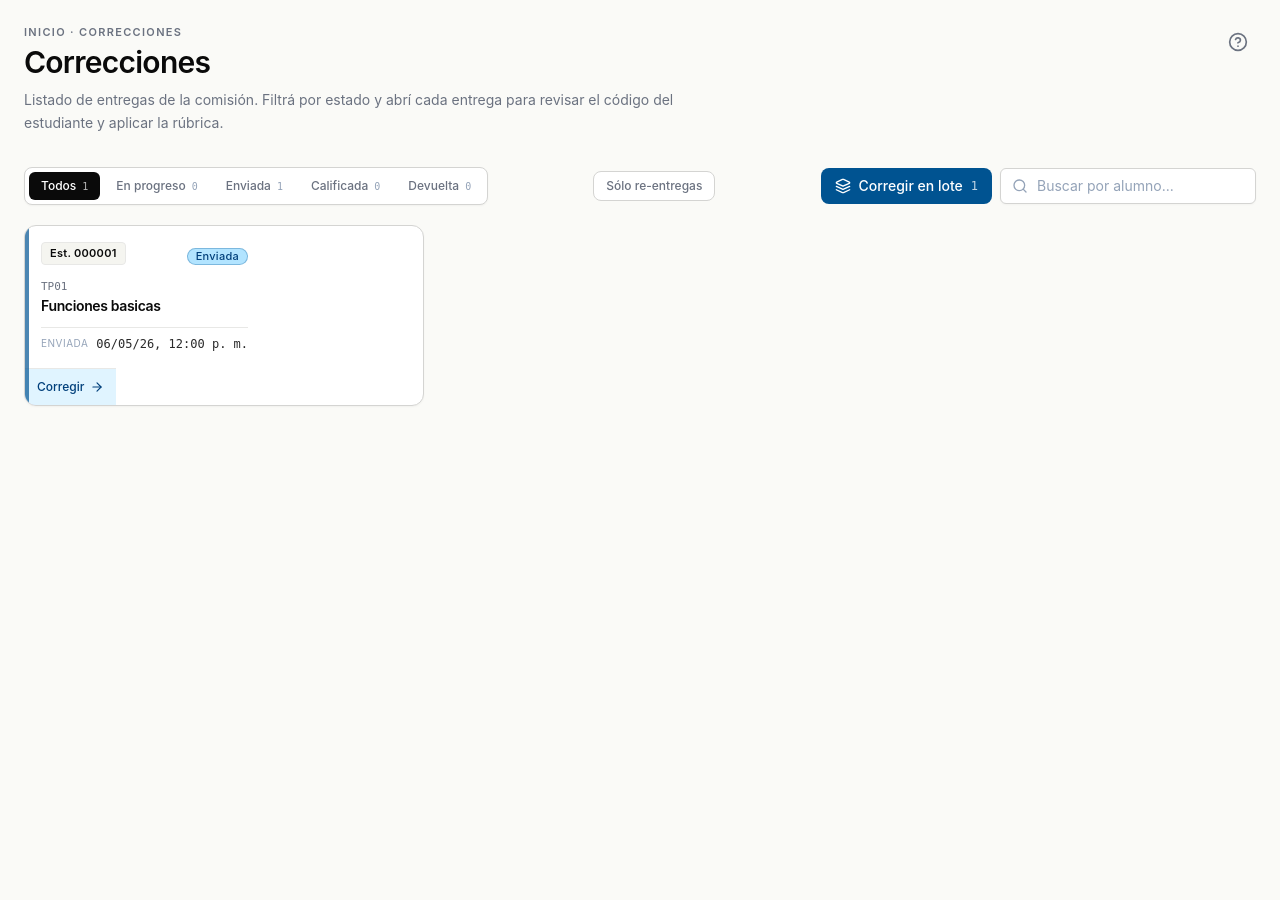
Scenario: CorreccionesView — EntregasListView › click en Corregir abre el GradingFormView
Click the button with test id "entrega-drill-btn": (83, 254) [24,224,424,406]
(page scrolled)
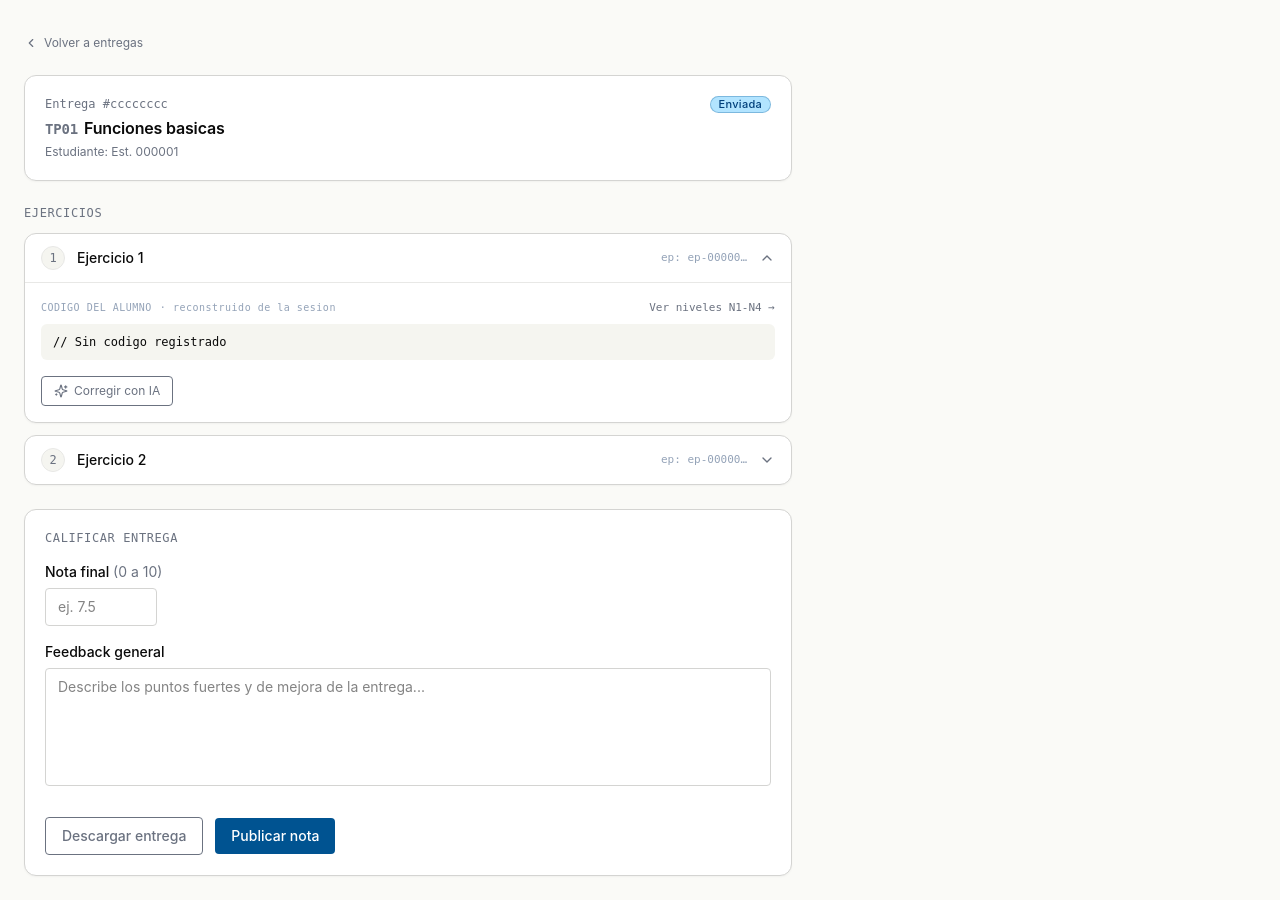
expect the element with test id "grading-form-view" is shown: met, box [24,32,792,876]
